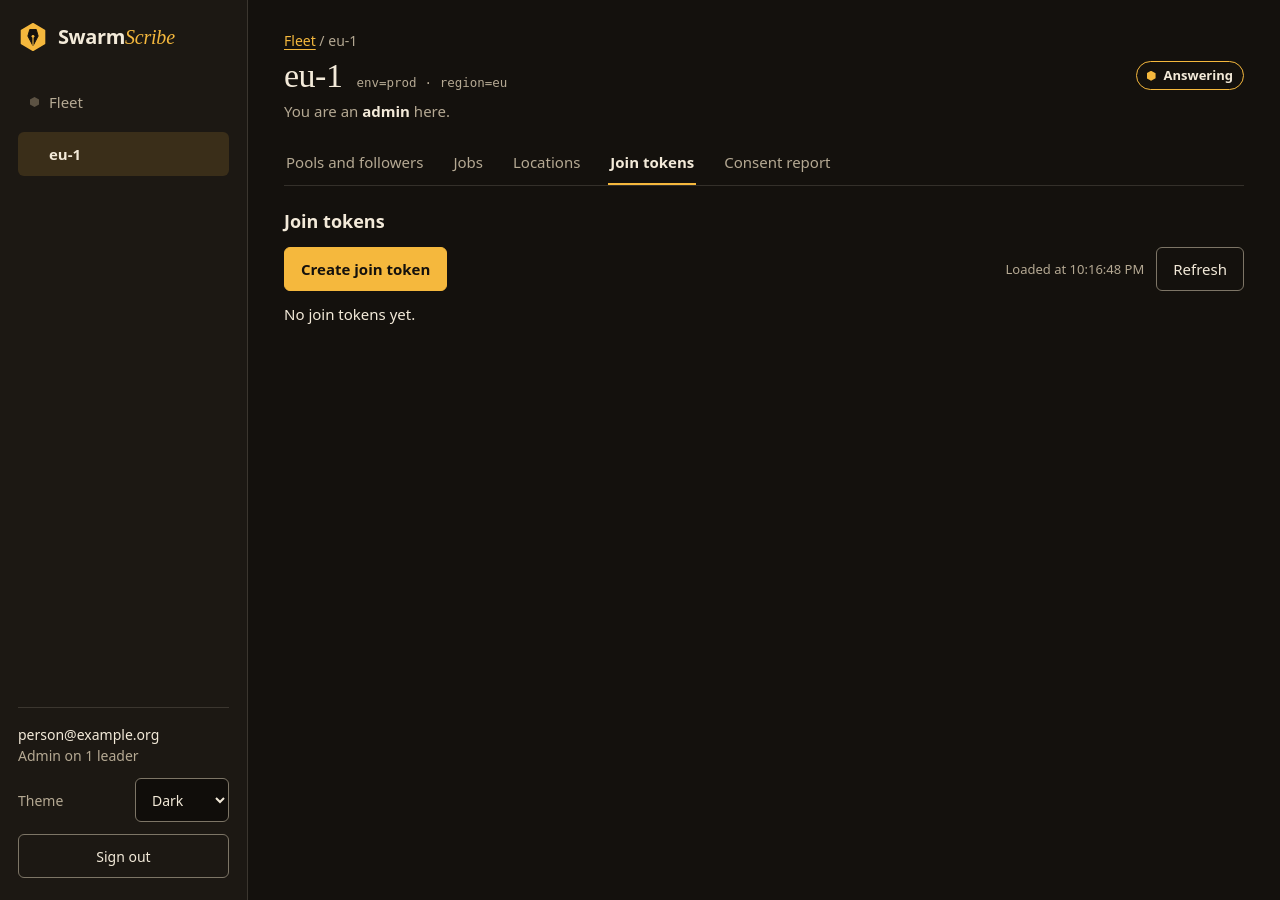
Test: join tokens tab: create › refuses Expires after (days, 1 to 90) = 0 beside the field, without asking the leader
Click the button "Create join token" at (366, 269), box [284,247,447,291]
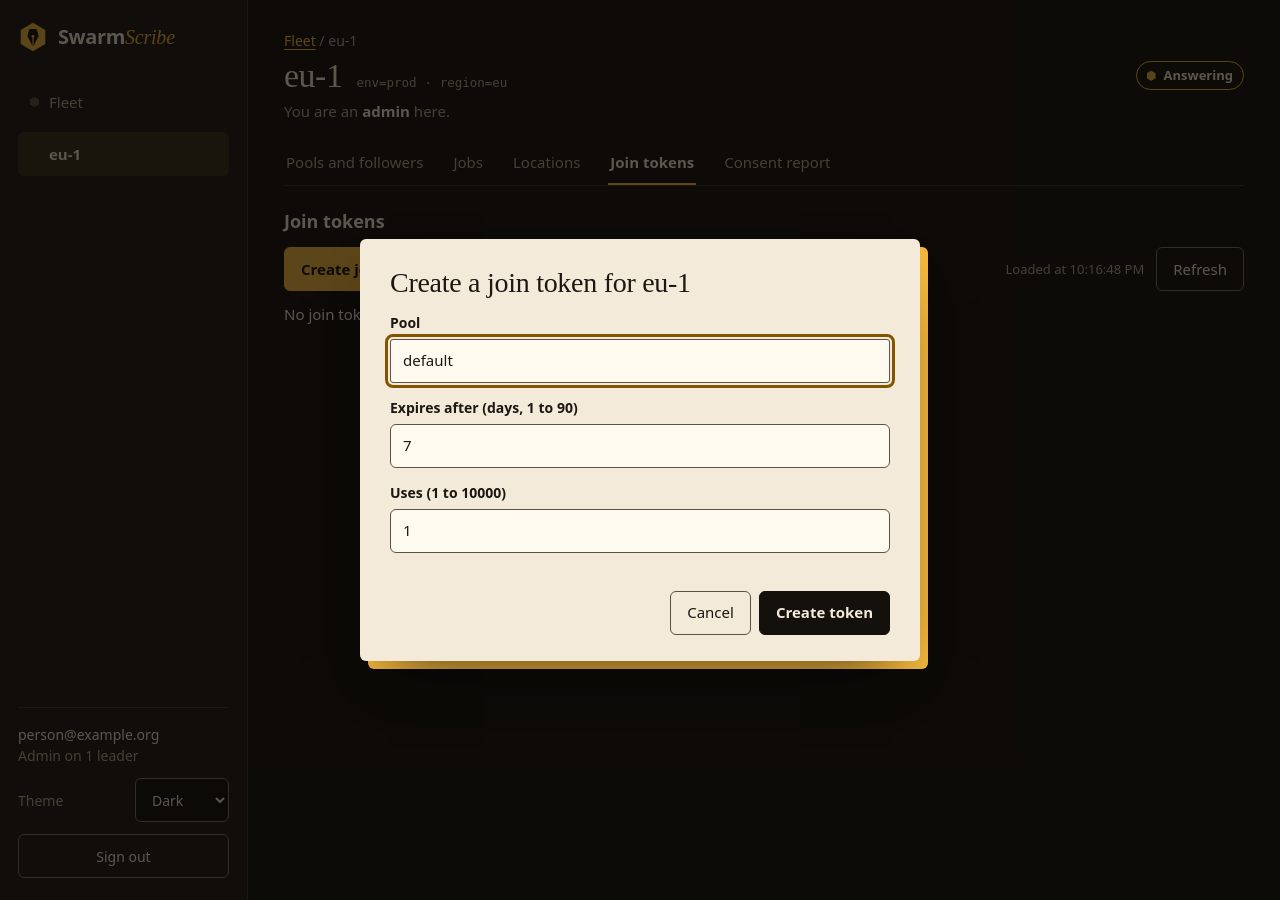
Replace the text in the number field labelled "Expires after (days, 1 to 90)" with "0" at (640, 446), box [390,424,890,468]
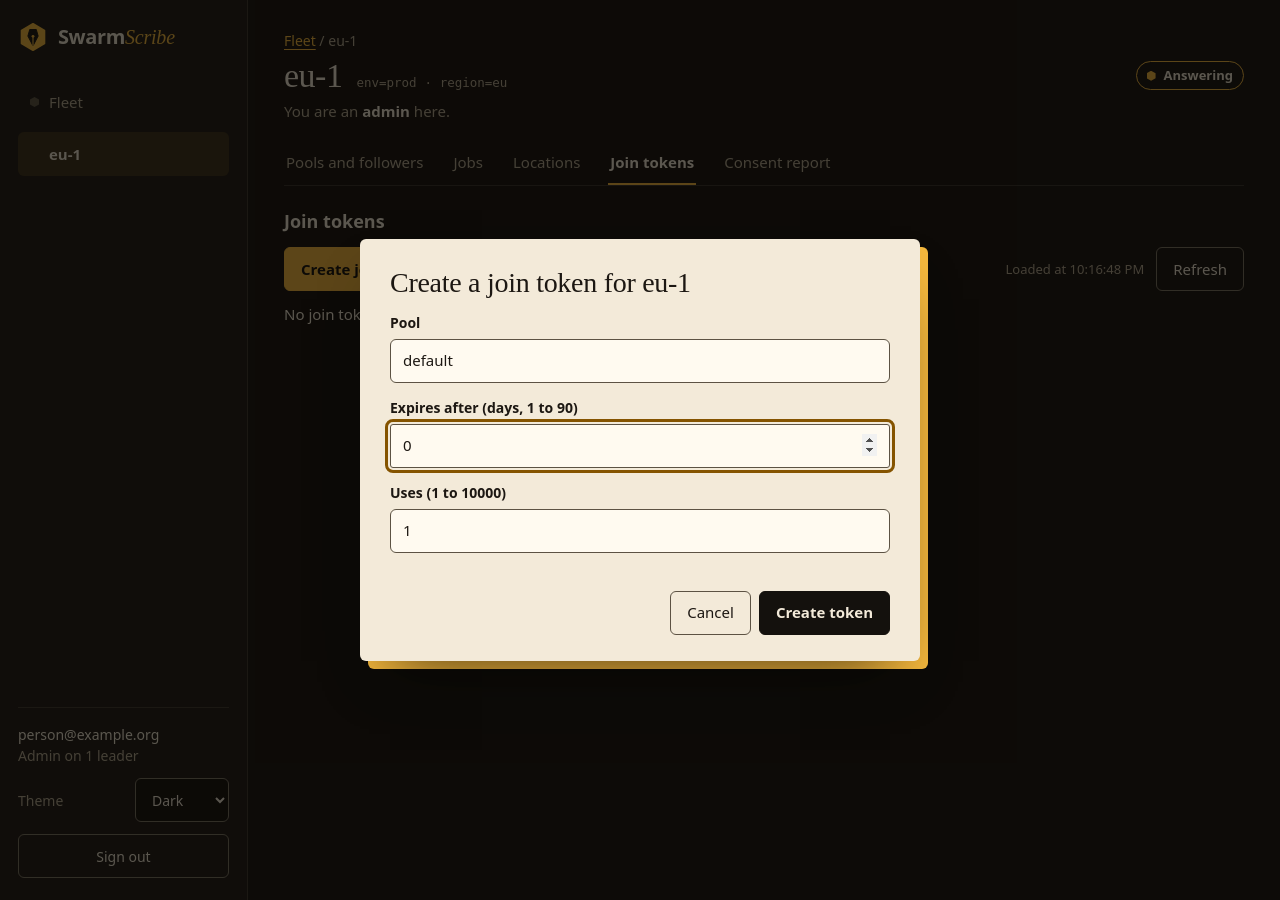
Click the button "Create token" at (824, 613), box [759,591,890,635]
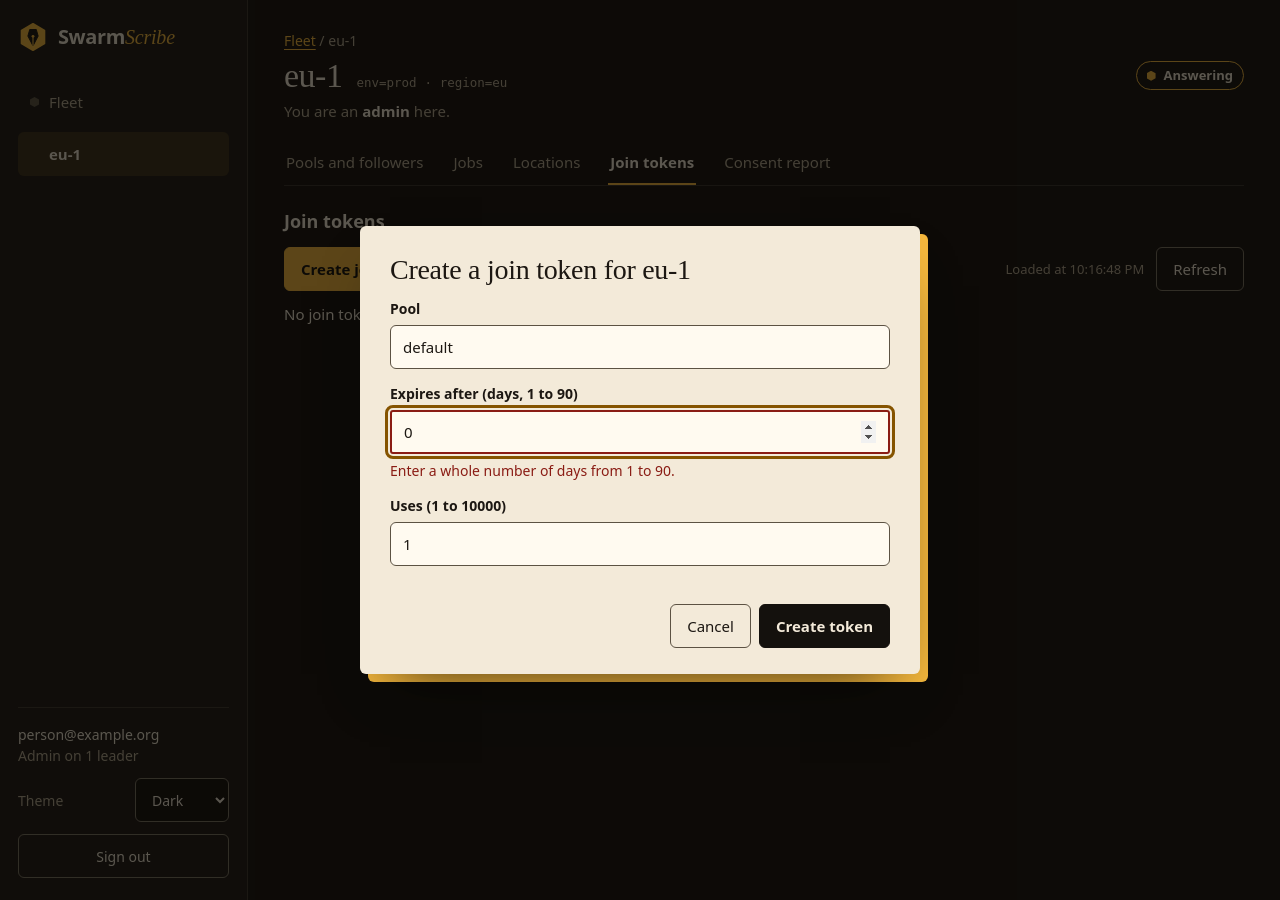
Now the message shows "1 to 90", box [390,461,675,480]
